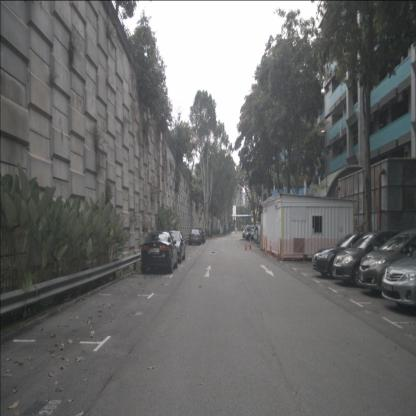cone: (277, 247, 282, 261), (269, 244, 273, 257), (244, 239, 247, 251), (263, 243, 266, 254), (249, 239, 252, 250)
